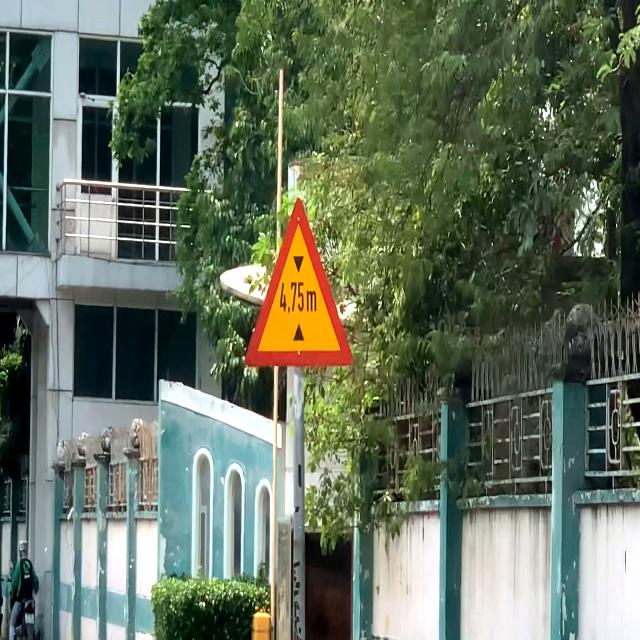S.509a: (244, 197, 353, 367)
